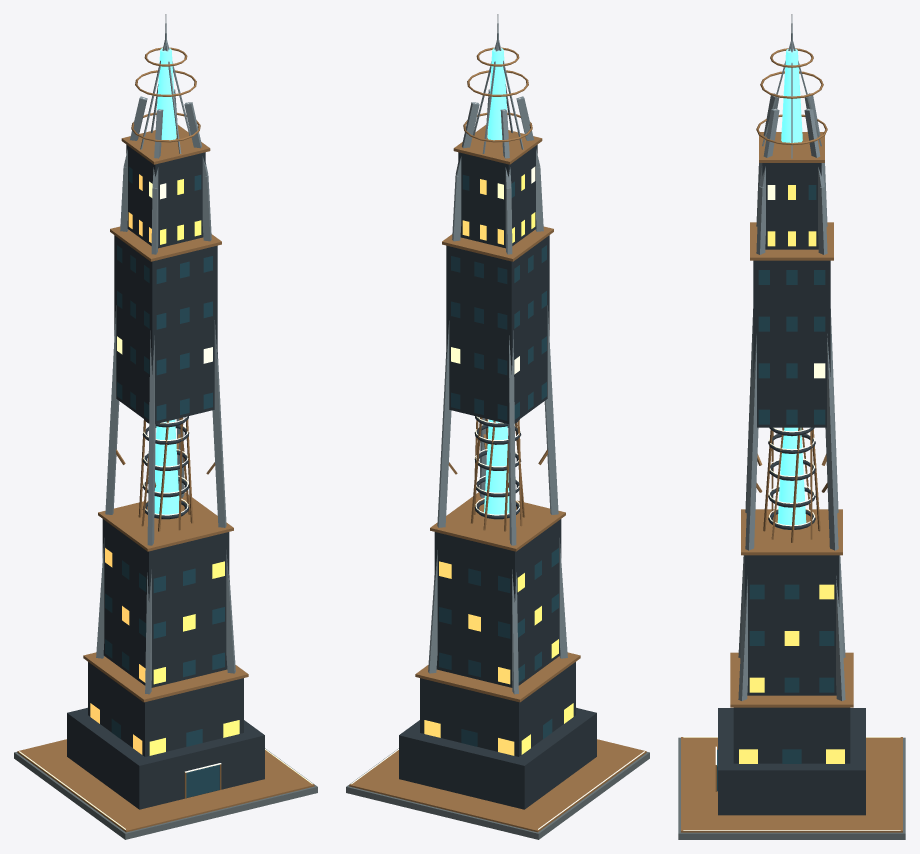
Rendered from agent-spire.lod2.glb.
The picture shows the model from 3 angles, left to right: view 1: azimuth 30°, elevation 25°; view 2: azimuth 150°, elevation 25°; view 3: azimuth 270°, elevation 25°; orthographic projection. The views are drawn at different scales.
Parts seen in each view (by area): view 1: structure; view 2: structure; view 3: structure.
Boxes of the visible parts, x1,y1,x2,y2 form: structure: (14,14,317,839); structure: (346,14,649,839); structure: (678,14,905,839).
Bounding box in the file's own units: 23 × 86.9 × 23.
